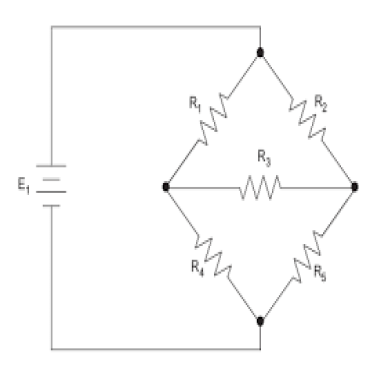Resistor: (188, 93, 232, 146), (189, 234, 233, 284), (239, 149, 282, 200), (288, 93, 329, 145), (291, 230, 329, 285)
Voltage Source: (17, 164, 68, 208)
